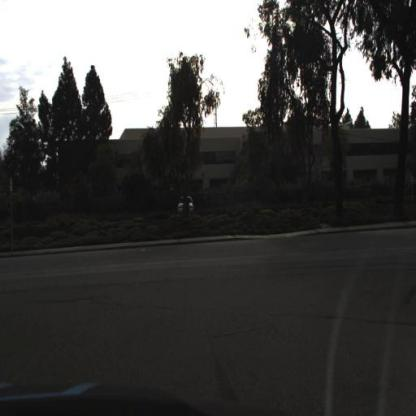car: (176, 193, 197, 217)
